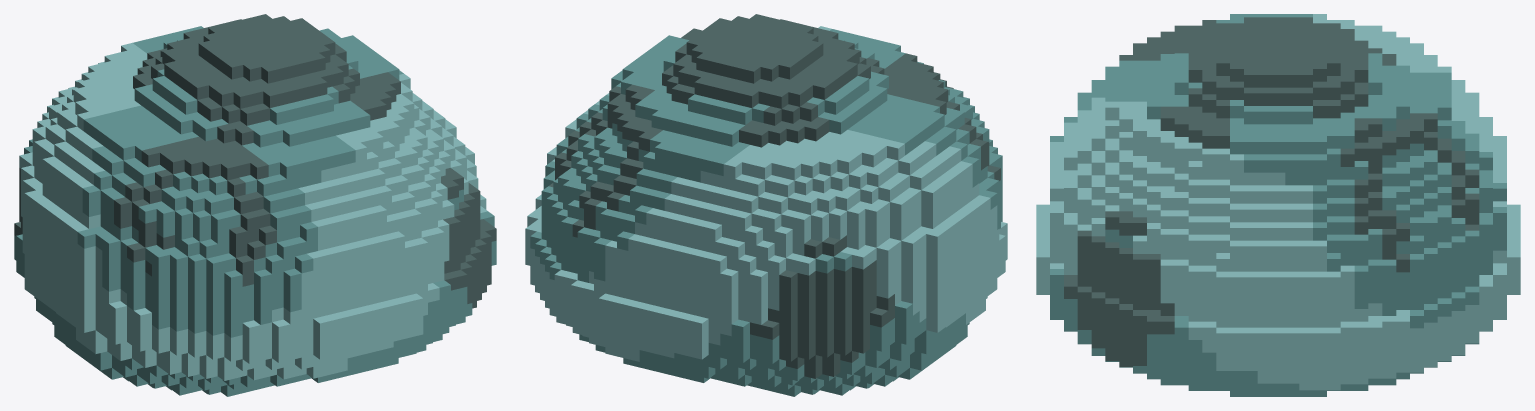
Rendered from Rock3.glb.
The picture shows the model from 3 angles, left to right: view 1: azimuth 30°, elevation 25°; view 2: azimuth 150°, elevation 25°; view 3: azimuth 270°, elevation 25°; orthographic projection. The views are drawn at different scales.
Visible parts, largest first — view 1: q0; view 2: q0; view 3: q0.
Boxes of the visible parts, x1=… form: q0: x1=14, y1=14, x2=496, y2=396; q0: x1=525, y1=14, x2=1007, y2=396; q0: x1=1036, y1=14, x2=1520, y2=396.
Size of the model in its own units: 35 by 24 by 35.
Materials: 1 (1 with a texture image).
